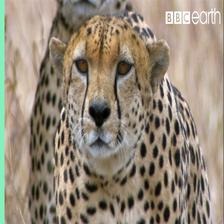Cheetah: (29, 0, 211, 224)
